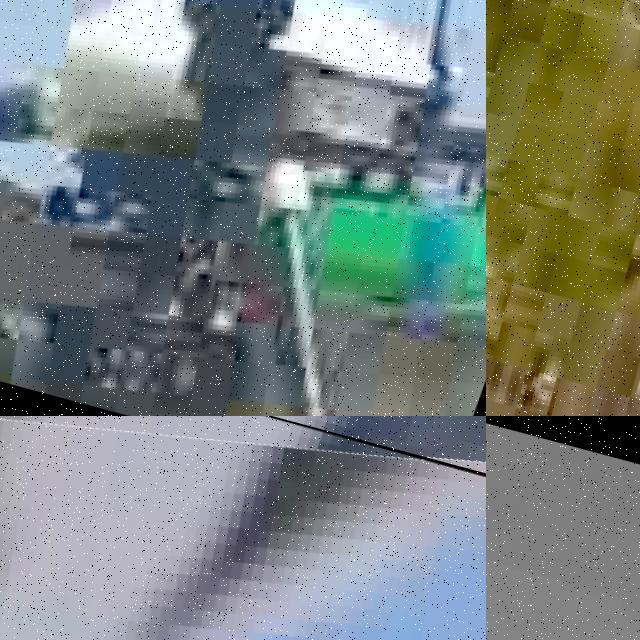drone: (0, 0, 486, 416), (0, 416, 486, 640)
